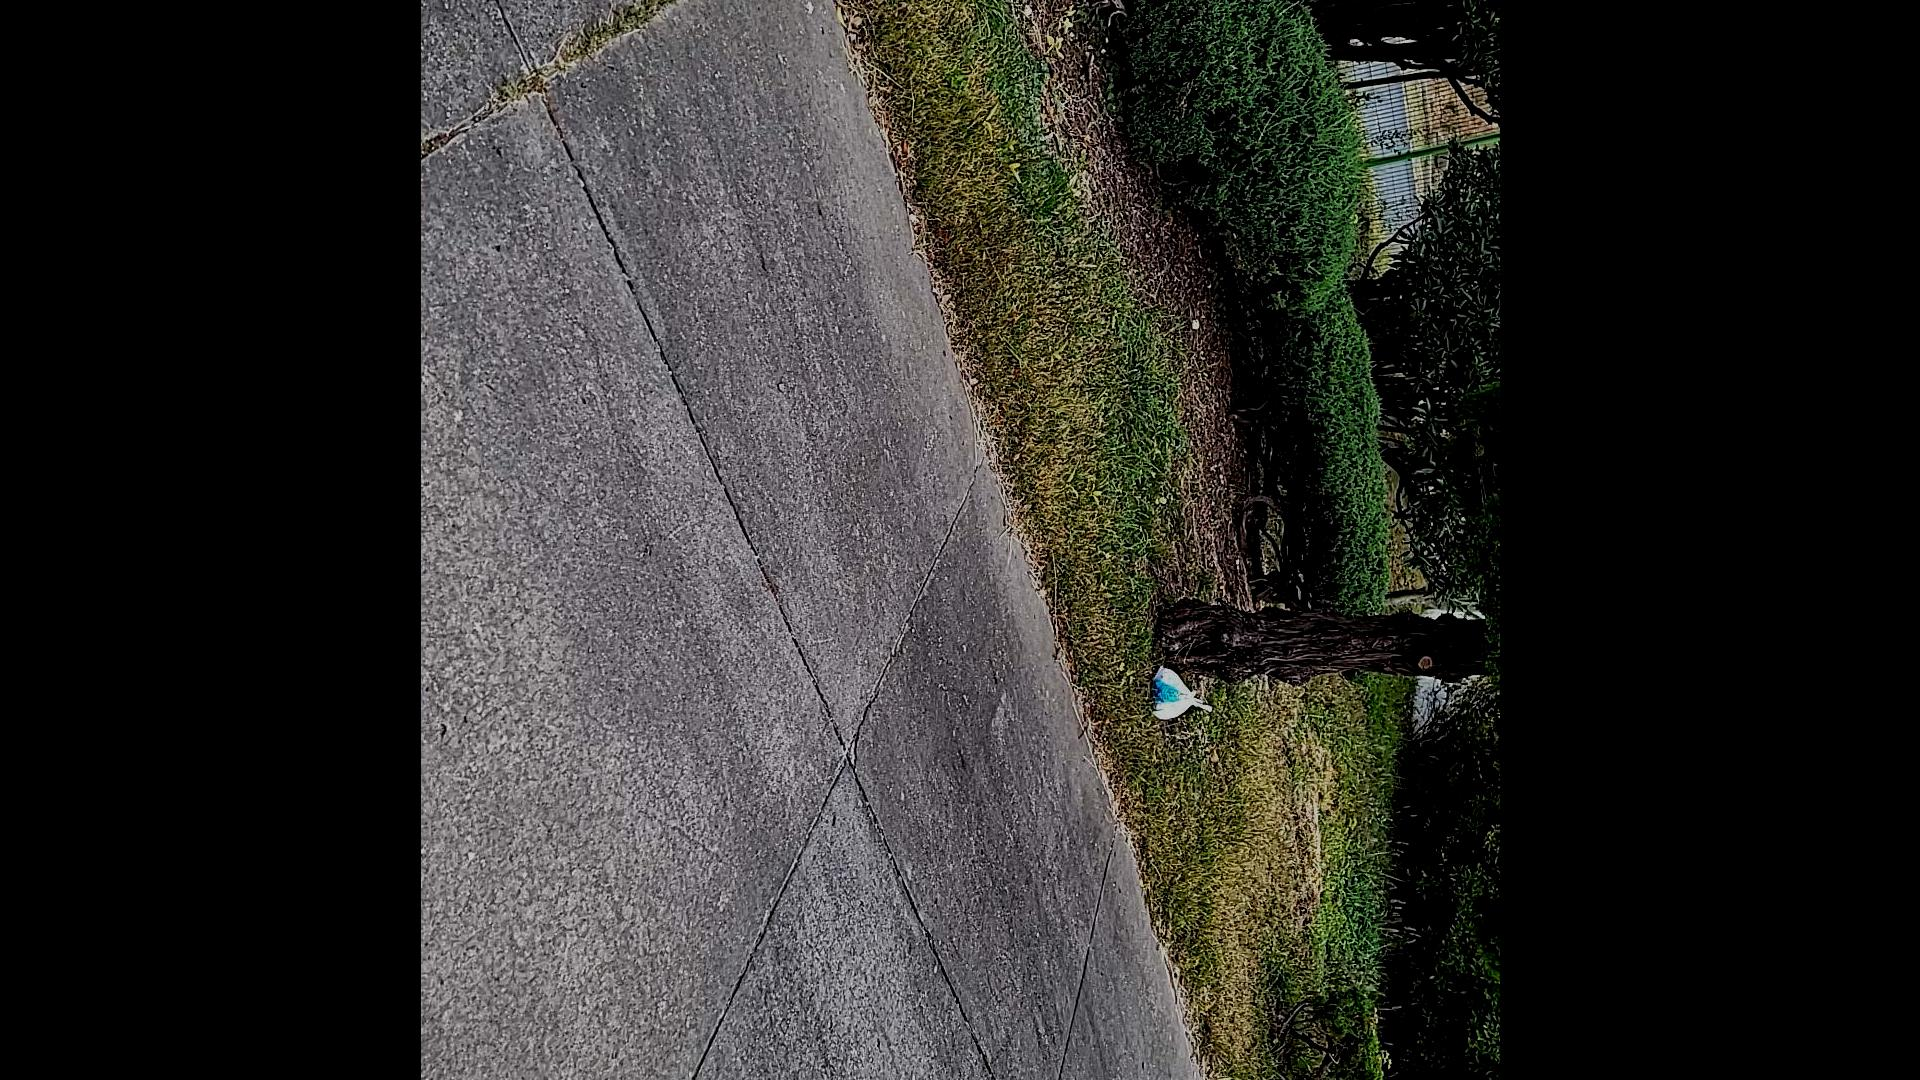white_bag: (1149, 650, 1215, 720)
